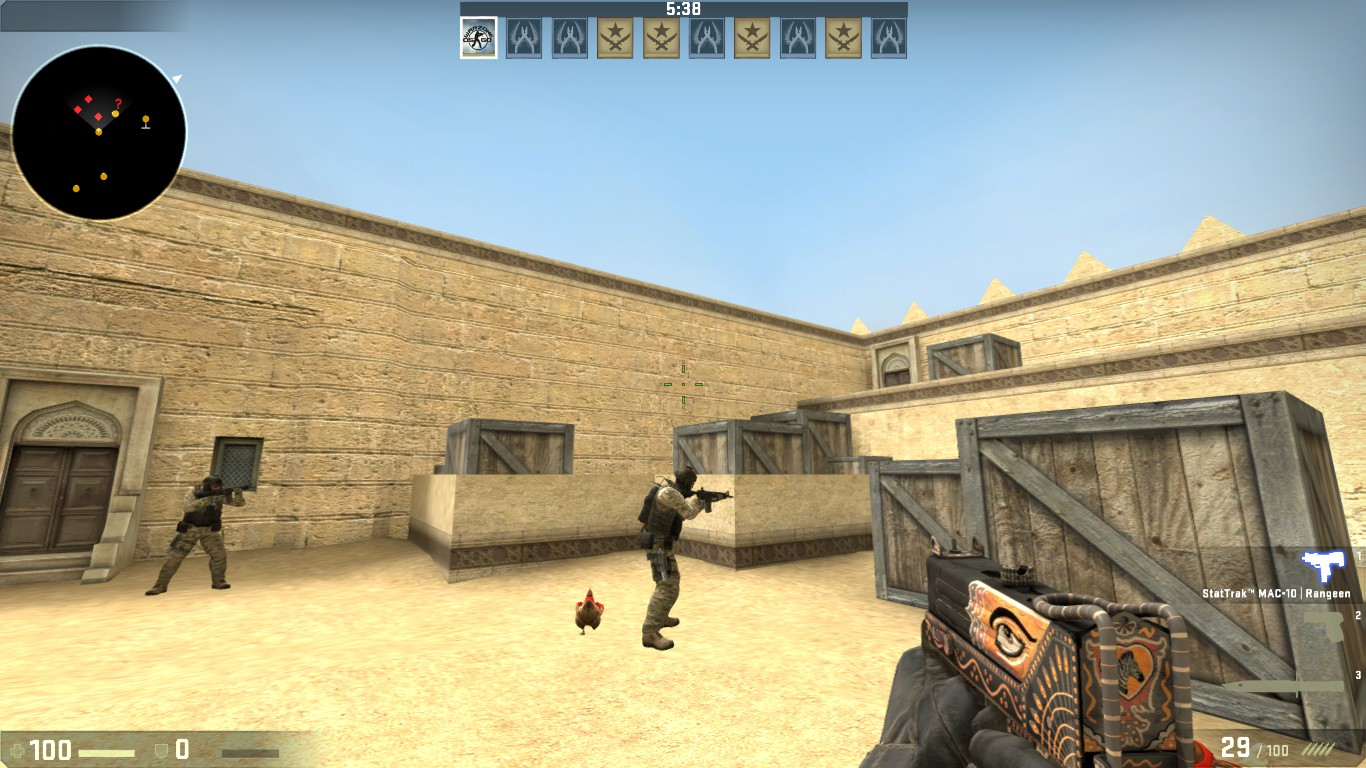c: (625, 464, 705, 652), (162, 474, 231, 595)
ch: (673, 462, 700, 495), (201, 473, 223, 495)
